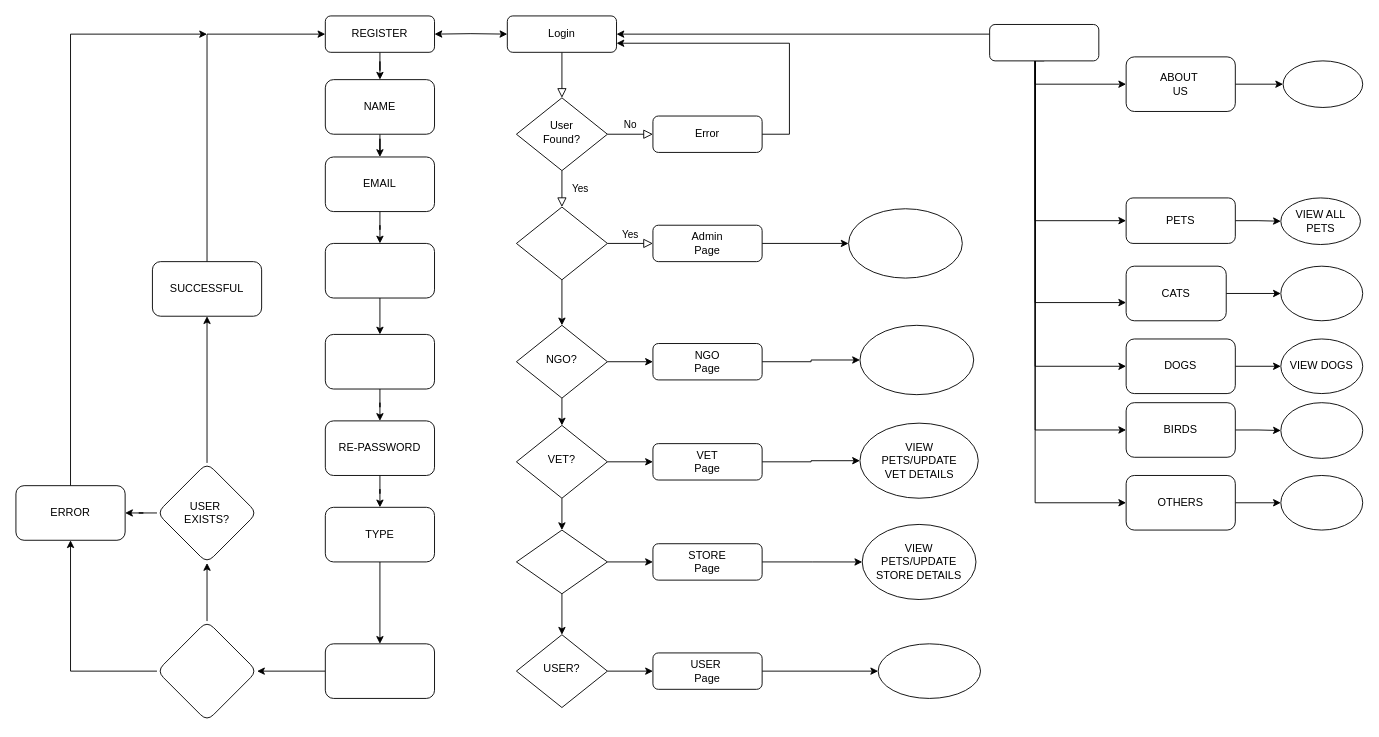
This 1379x737 diagram has some shape labels left out. Each missing label, with the box of its shape:
ADDRESS: (324, 243, 435, 298)
Admin Login?: (516, 206, 607, 280)
ALTER ALL TABLE VALUES: (848, 208, 962, 278)
Home: (989, 24, 1099, 61)
PASSWORD: (324, 334, 435, 389)
PASSWORD= RE-PASSWORD ?: (156, 620, 257, 721)
STORE?: (516, 529, 607, 594)
USERNAME: (324, 643, 435, 698)
VIEW BIRDS: (1280, 402, 1363, 458)
VIEW CATS: (1280, 265, 1363, 321)
VIEW OTHER PETS: (1280, 475, 1363, 530)
VIEW PETS: (877, 643, 981, 698)
VIEW PETS/UPDATE NGO DETAILS: (859, 324, 974, 395)
VIEW TEAM INFO: (1282, 60, 1363, 107)
